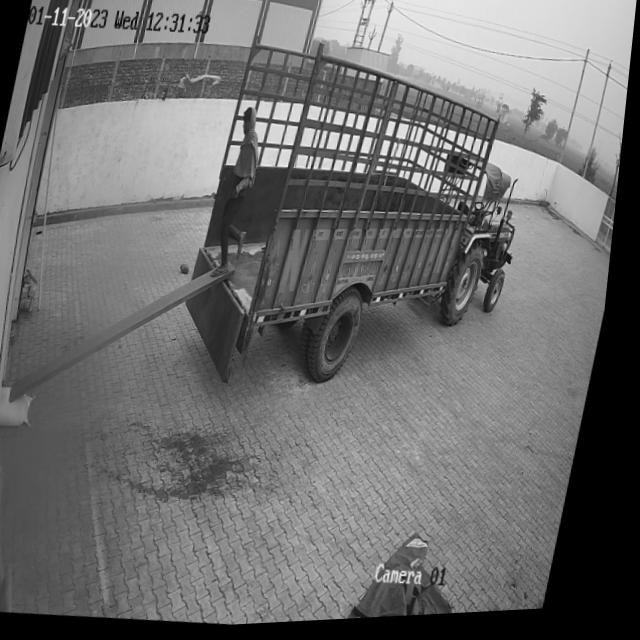sack: (1, 384, 43, 430)
